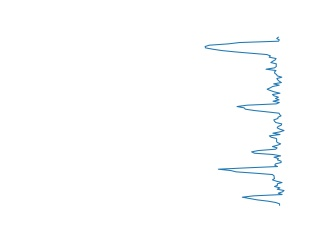distalBar: (201, 31, 287, 86)
interdistributaryEstuary: (234, 87, 287, 141)
underwaterNaturalLevee: (215, 142, 287, 208)
